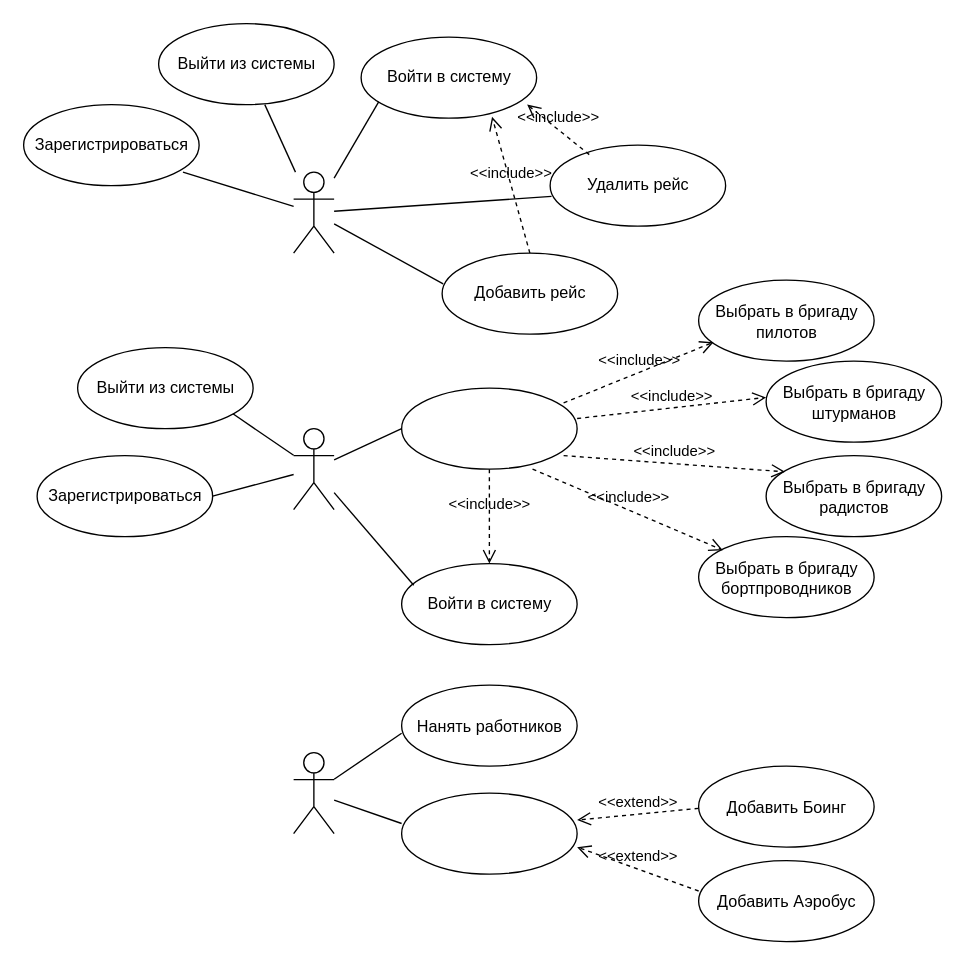
Some shapes in this 965 by 965 pixel diagram are drawn without their labels. The centre of each missing label's shape, as x and y in pixels:
"Авиакомпания" belongs at point (313, 792).
"Администратор" belongs at point (313, 212).
"Диспетчер" belongs at point (313, 468).
"Добавить самолёты" belongs at point (488, 833).
"Сформировать лётную бригаду" belongs at point (488, 428).
